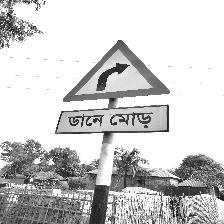Right-turn: (56, 40, 172, 135)
